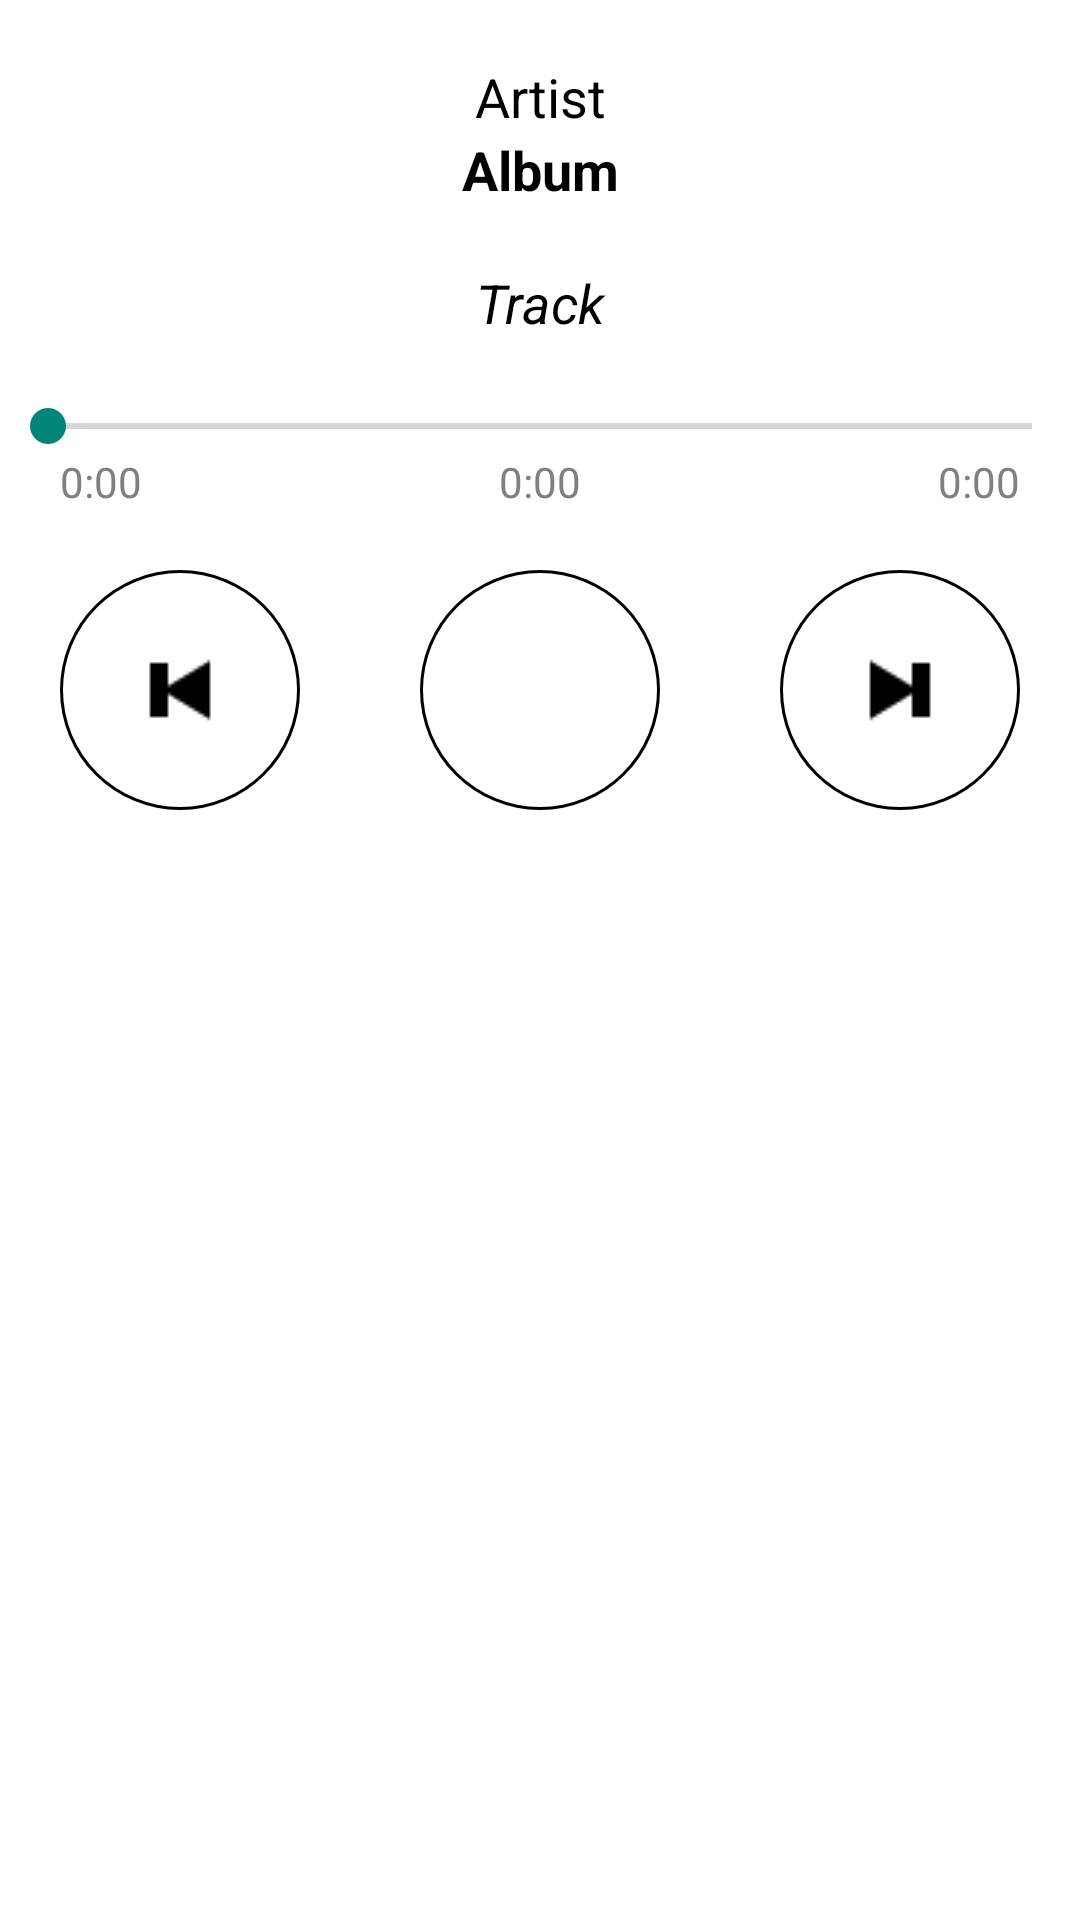

Point at icon controls on the screen. Image size 1080x1920, points as point (x, y).
audio end: point (900, 690)
audio start: point (180, 690)
